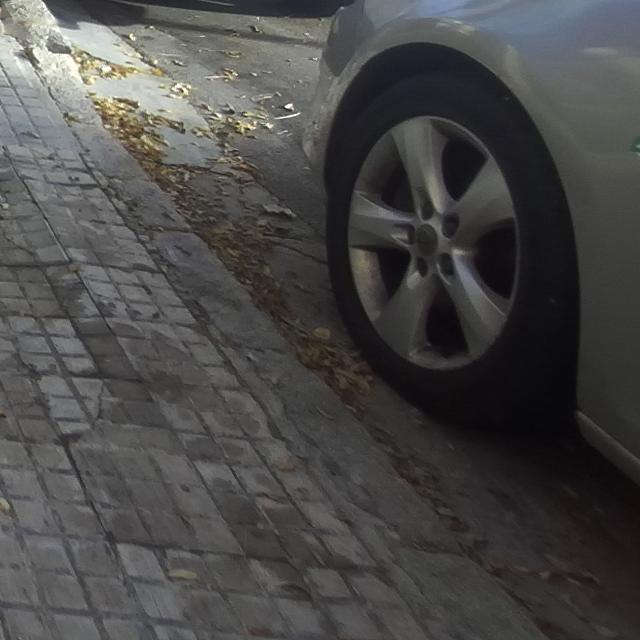calcada_quebrada: (59, 375, 115, 459), (0, 217, 52, 270)
